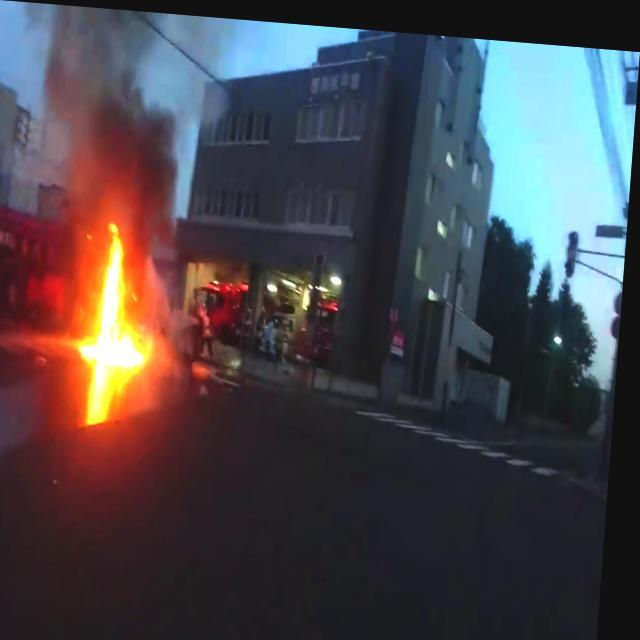Fire: (84, 220, 157, 366)
